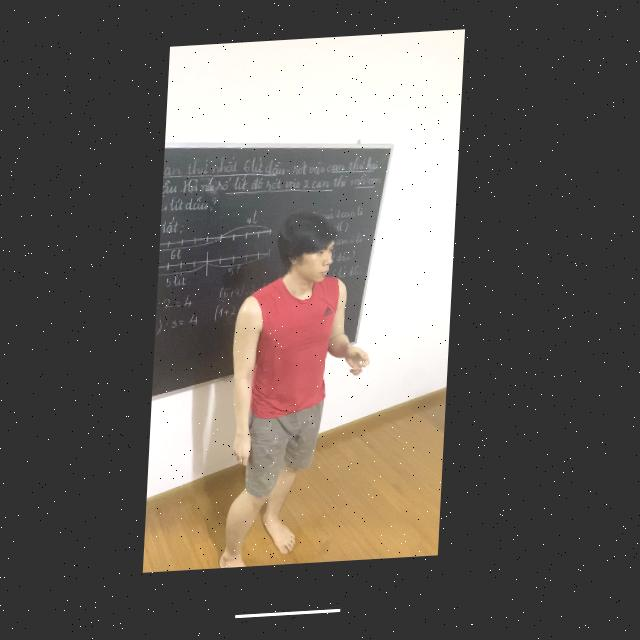cigarette: (363, 366, 373, 386)
